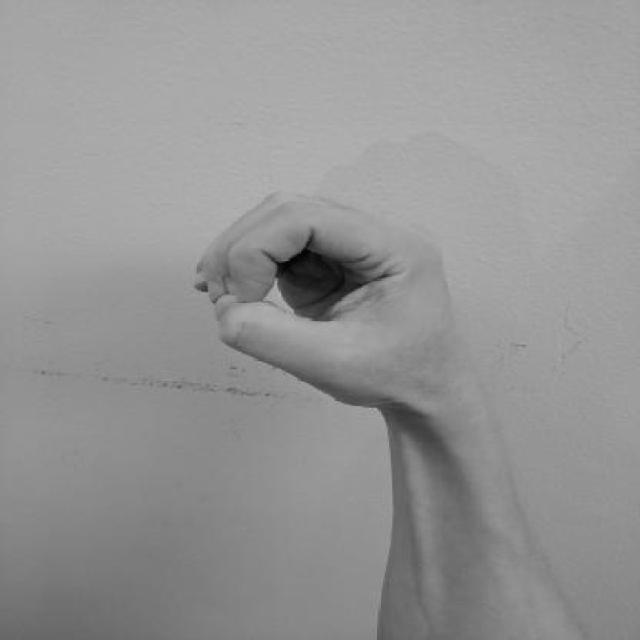O: (186, 187, 471, 413)
